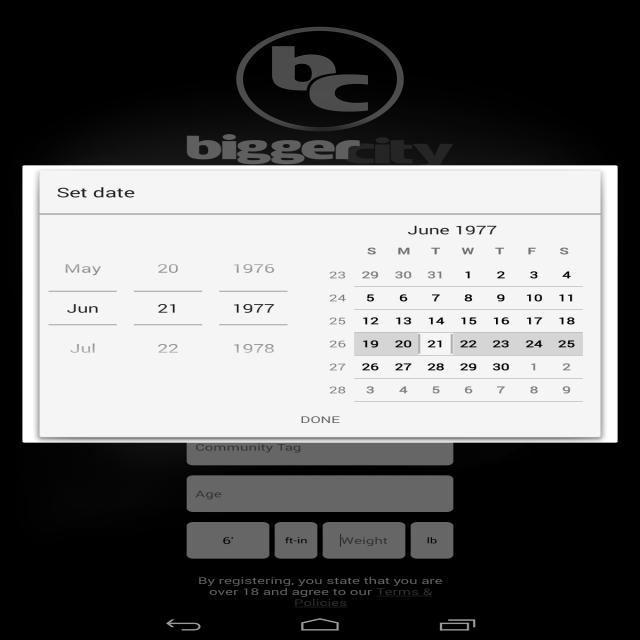Button: (39, 402, 600, 438), (48, 248, 117, 292), (48, 324, 117, 368), (219, 248, 288, 292), (219, 324, 288, 368), (134, 248, 202, 292), (134, 324, 202, 368)
EditText: (48, 292, 117, 324), (219, 292, 288, 324), (134, 292, 202, 324)
ImageView: (322, 261, 583, 262)
TextView: (56, 183, 584, 201), (408, 215, 497, 244), (419, 244, 452, 257), (548, 244, 581, 257), (324, 244, 356, 257), (356, 244, 388, 257), (388, 244, 420, 257), (452, 244, 484, 257), (484, 244, 516, 257), (516, 244, 548, 257)
